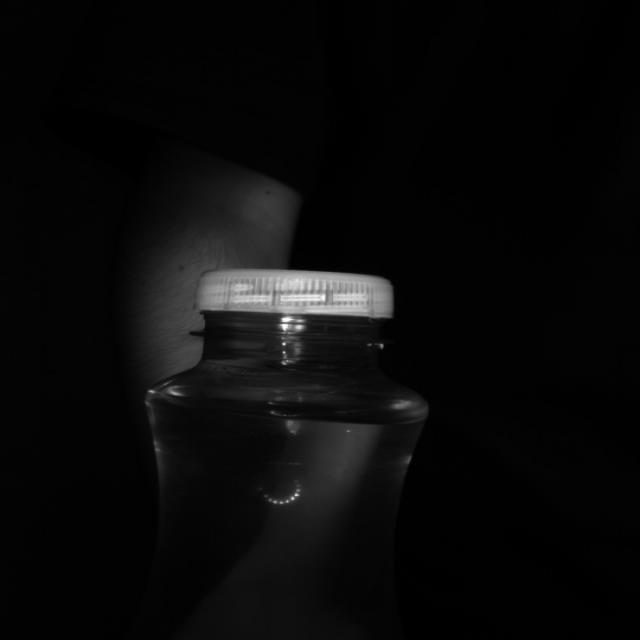Not Good: (192, 269, 396, 342)
